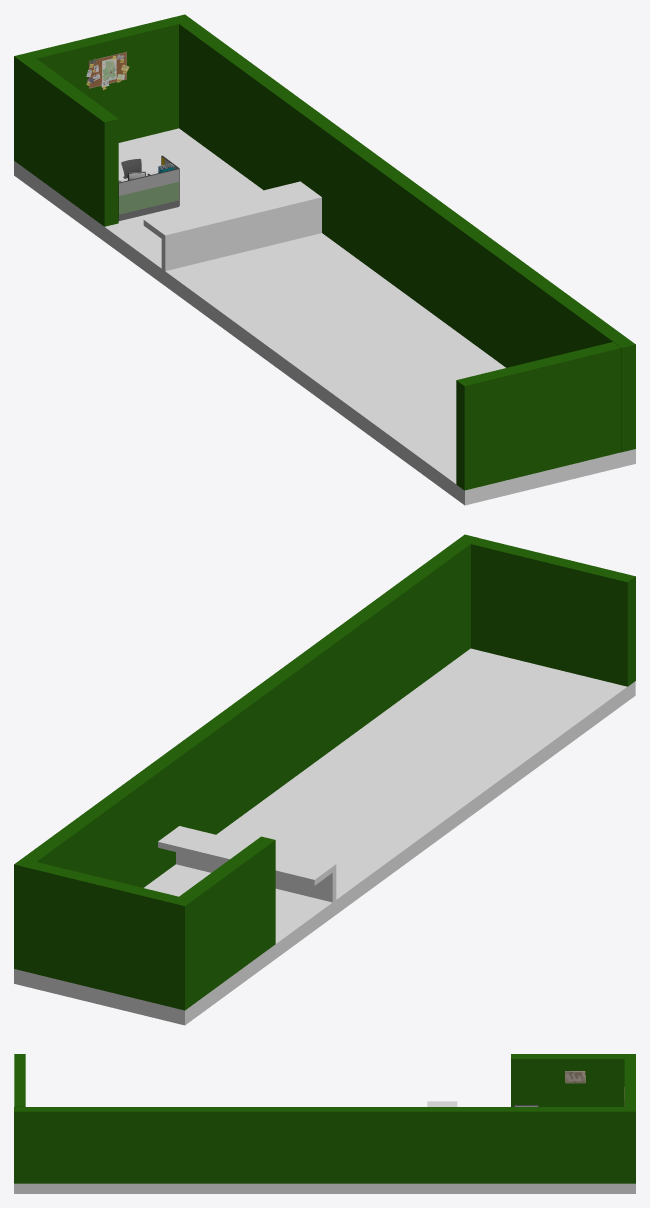
The model's file is Map2.glb.
The picture shows the model from 3 angles, top to bottom: view 1: azimuth 30°, elevation 25°; view 2: azimuth 150°, elevation 25°; view 3: azimuth 270°, elevation 25°; orthographic projection. The views are drawn at different scales.
Visible parts, largest first — view 1: monitor1228A6_StaticMeshComponent0; view 2: monitor1228A6_StaticMeshComponent0; view 3: monitor1228A6_StaticMeshComponent0.
Part boxes in pixels (x1,y1,x2,y2): monitor1228A6_StaticMeshComponent0: (14,14,635,505); monitor1228A6_StaticMeshComponent0: (14,534,635,1025); monitor1228A6_StaticMeshComponent0: (14,1054,635,1193).
Bounding box in the file's own units: 6.01 × 4 × 27.39.
53 materials, 3 textured.
